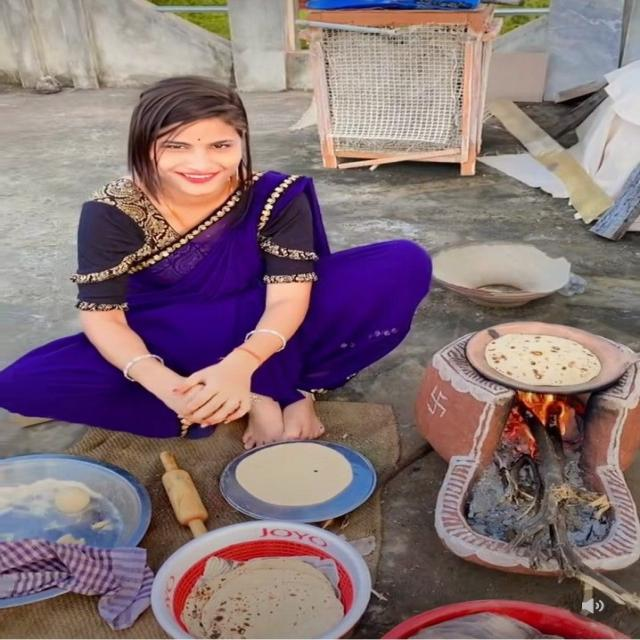fire: (512, 390, 566, 441)
